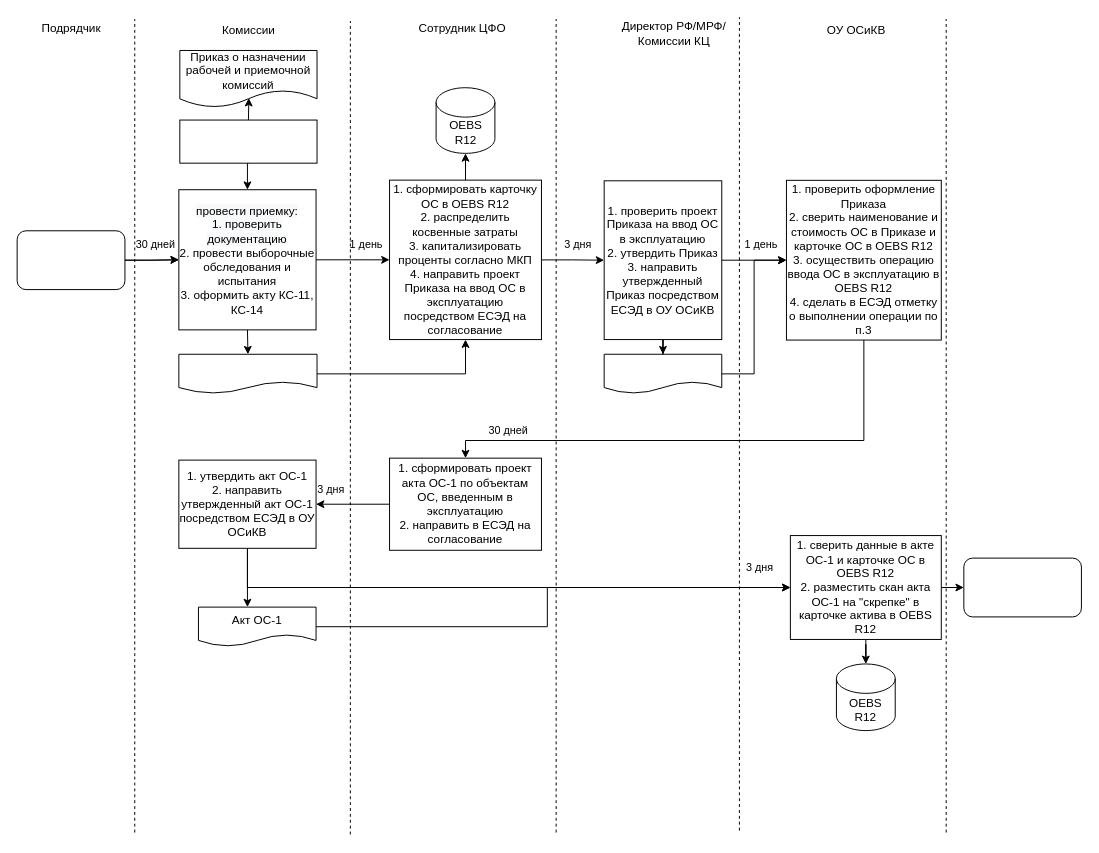
The diagram is 1099 pixels wide and 853 high, and some of its shapes have lost their labels. Each missing label, with the box of its shape:
КС-11 КС-14: (178, 353, 317, 393)
назначить рабочую и приемочную комиссию: (179, 119, 317, 163)
Объект введен в эксплуатацию и ввод оформлен в учете: (963, 557, 1081, 617)
Объект ОС готов к приемке и вводу в эксплуатацию: (16, 230, 125, 290)
Приказ на ввод ОС в эксплуатацию: (603, 353, 722, 393)
